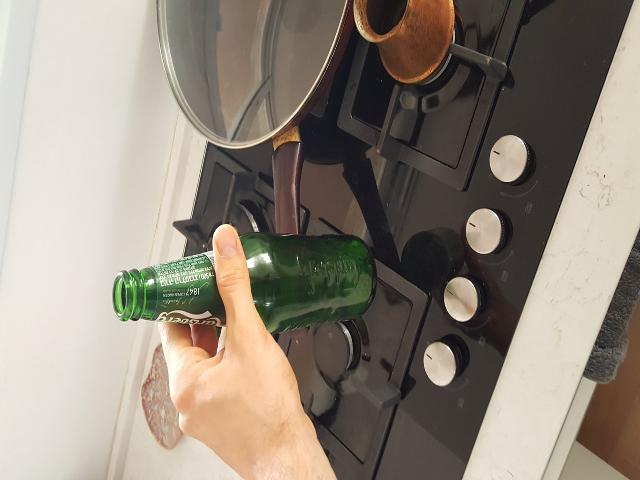beer: (115, 234, 376, 322)
